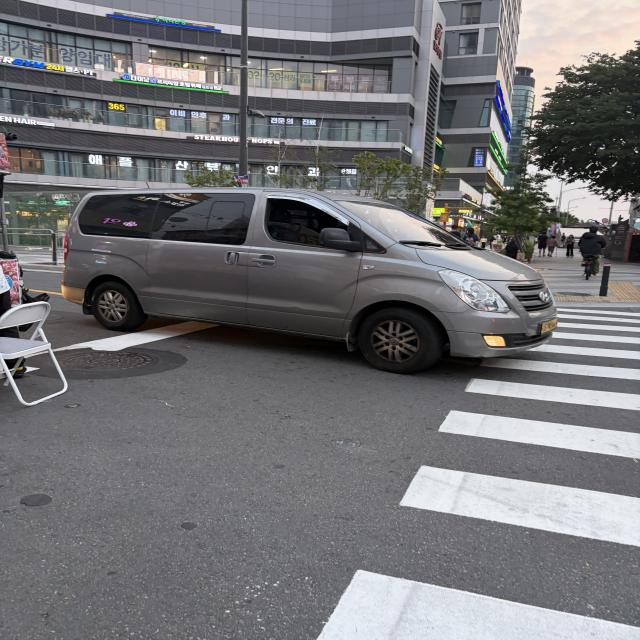car: (54, 164, 586, 381)
